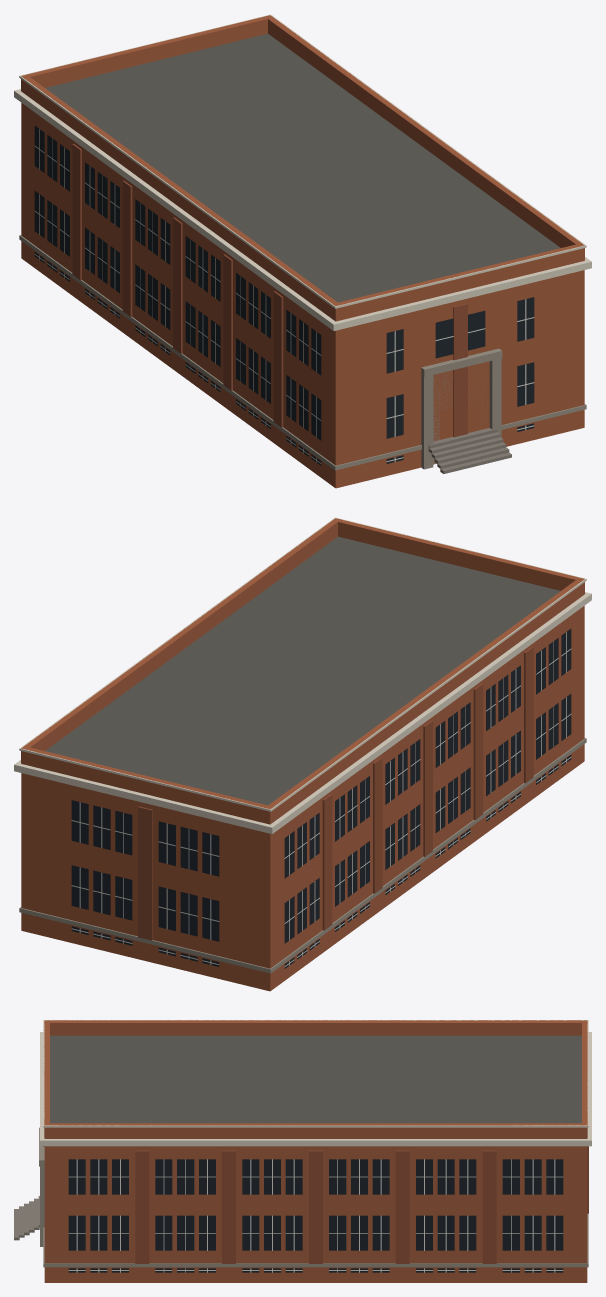
The model's file is robert-e-lee-school-1913.glb.
3 views of the same model, one above another, from view 1: azimuth 30°, elevation 25°; view 2: azimuth 150°, elevation 25°; view 3: azimuth 270°, elevation 25° (orthographic). The views are drawn at different scales.
Visible parts, largest first — view 1: robert_brick, robert_tar, robert_glass, robert_trim, robert_brick2, robert_stone, robert_sash, robert_base; view 2: robert_brick, robert_tar, robert_glass, robert_trim, robert_brick2, robert_sash, robert_stone; view 3: robert_brick, robert_tar, robert_glass, robert_brick2, robert_trim, robert_stone, robert_sash, robert_base.
Part boxes in pixels (x1,y1,x2,y2): robert_brick: (21, 15, 584, 488); robert_tar: (45, 33, 560, 302); robert_glass: (34, 125, 534, 465); robert_trim: (14, 14, 591, 330); robert_brick2: (72, 144, 467, 437); robert_stone: (19, 235, 586, 470); robert_sash: (34, 129, 534, 463); robert_base: (428, 428, 511, 473); robert_brick: (21, 518, 584, 991); robert_tar: (45, 536, 560, 805); robert_glass: (71, 628, 571, 968); robert_trim: (14, 517, 591, 833); robert_brick2: (138, 647, 533, 940); robert_sash: (71, 632, 571, 966); robert_stone: (19, 738, 586, 973); robert_brick: (44, 1020, 587, 1282); robert_tar: (50, 1035, 581, 1123); robert_glass: (68, 1159, 563, 1272); robert_brick2: (43, 1146, 588, 1263); robert_trim: (40, 1020, 591, 1146); robert_stone: (39, 1127, 588, 1267); robert_sash: (68, 1159, 563, 1272); robert_base: (14, 1196, 39, 1240).
Size of the model in its own units: 16.6 by 11.2 by 37.27.
